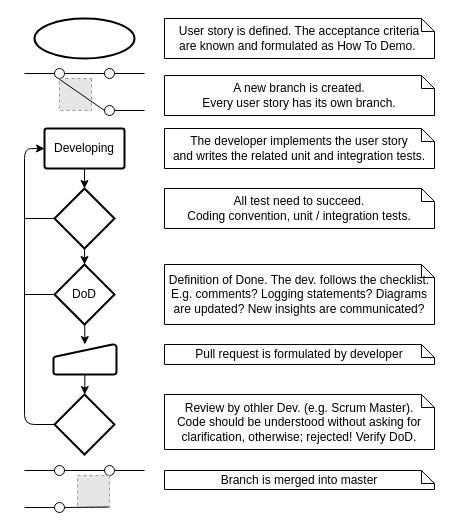
Image size: 452x530. Some labels were removed from this diagram. Grey dashed boxes stand in for pictures. The centre of each missing label's shape, as x and y in pixels:
PR: [84,359]
Review: [84,424]
tests: [84,218]
User story: [84,38]
